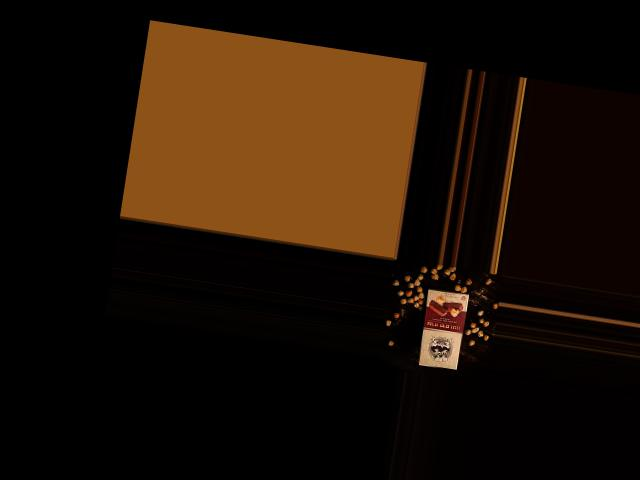chocolate: (412, 285, 471, 373)
